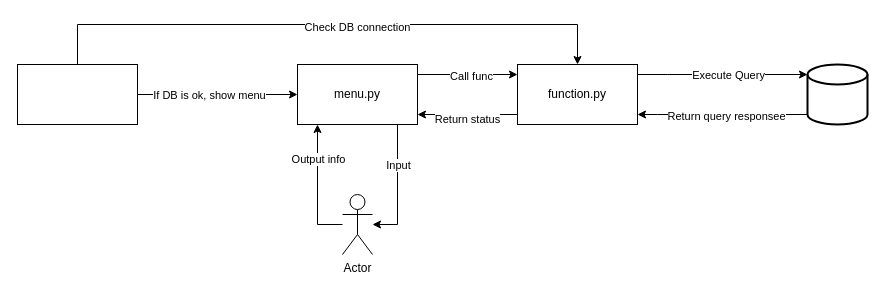
Some shapes in this 886 by 293 pixel diagram are drawn without their labels. Each missing label, with the box of its shape:
main.py: (16, 64, 138, 124)
Neo4j Aura: (806, 63, 868, 125)
